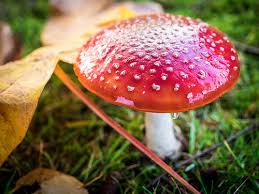Amanita muscaria: (69, 9, 246, 152)
